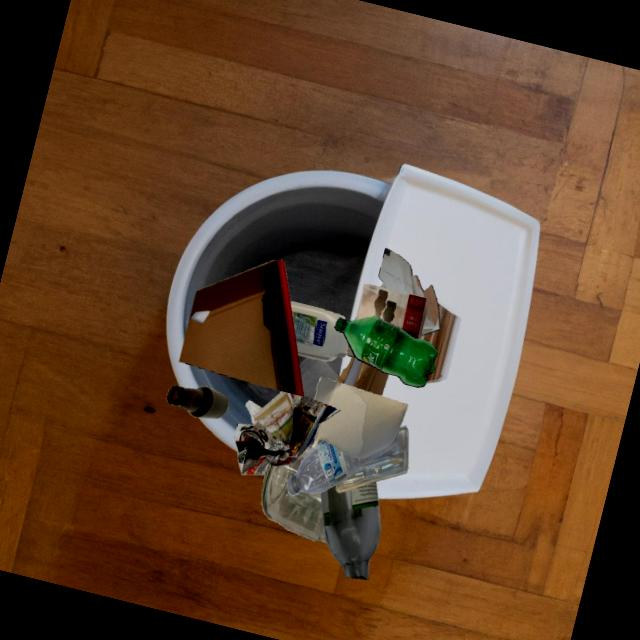cardboard: (178, 259, 303, 396), (311, 376, 407, 458), (335, 356, 388, 396)
glass: (261, 444, 327, 543), (320, 481, 380, 579), (166, 385, 228, 418)
paper: (233, 391, 340, 475), (378, 248, 439, 321), (356, 284, 428, 338), (349, 320, 424, 352), (421, 321, 440, 336)
plastic: (286, 423, 401, 496), (334, 316, 437, 387), (335, 425, 408, 493), (290, 301, 348, 361)
